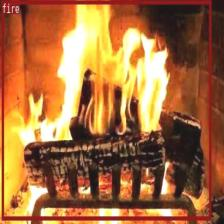fire: (1, 0, 210, 219)
